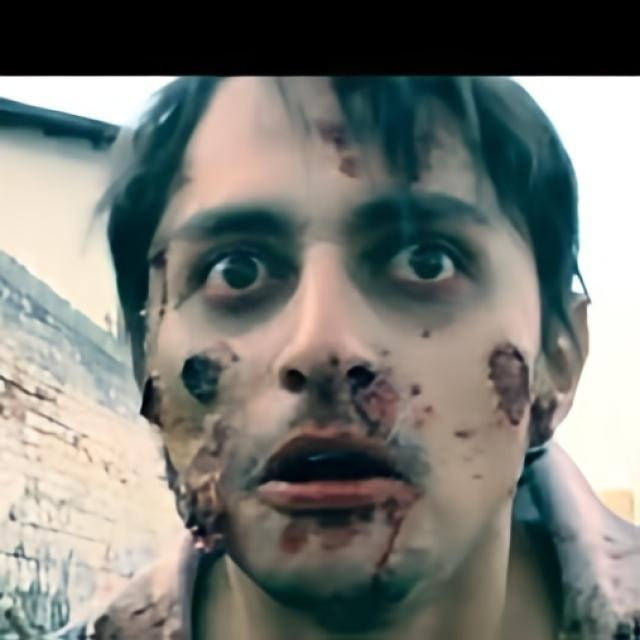fear: (150, 76, 550, 625)
